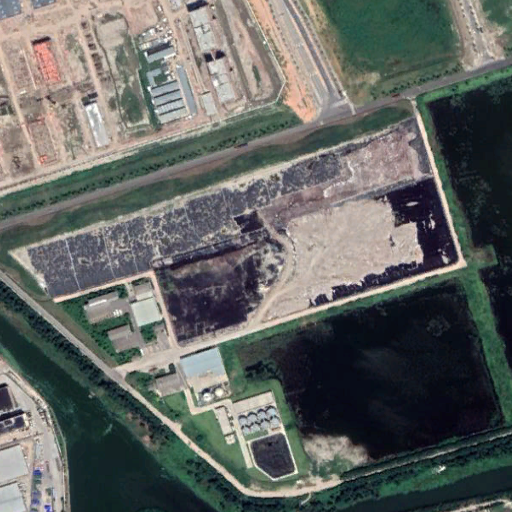lf: (21, 121, 462, 348)
